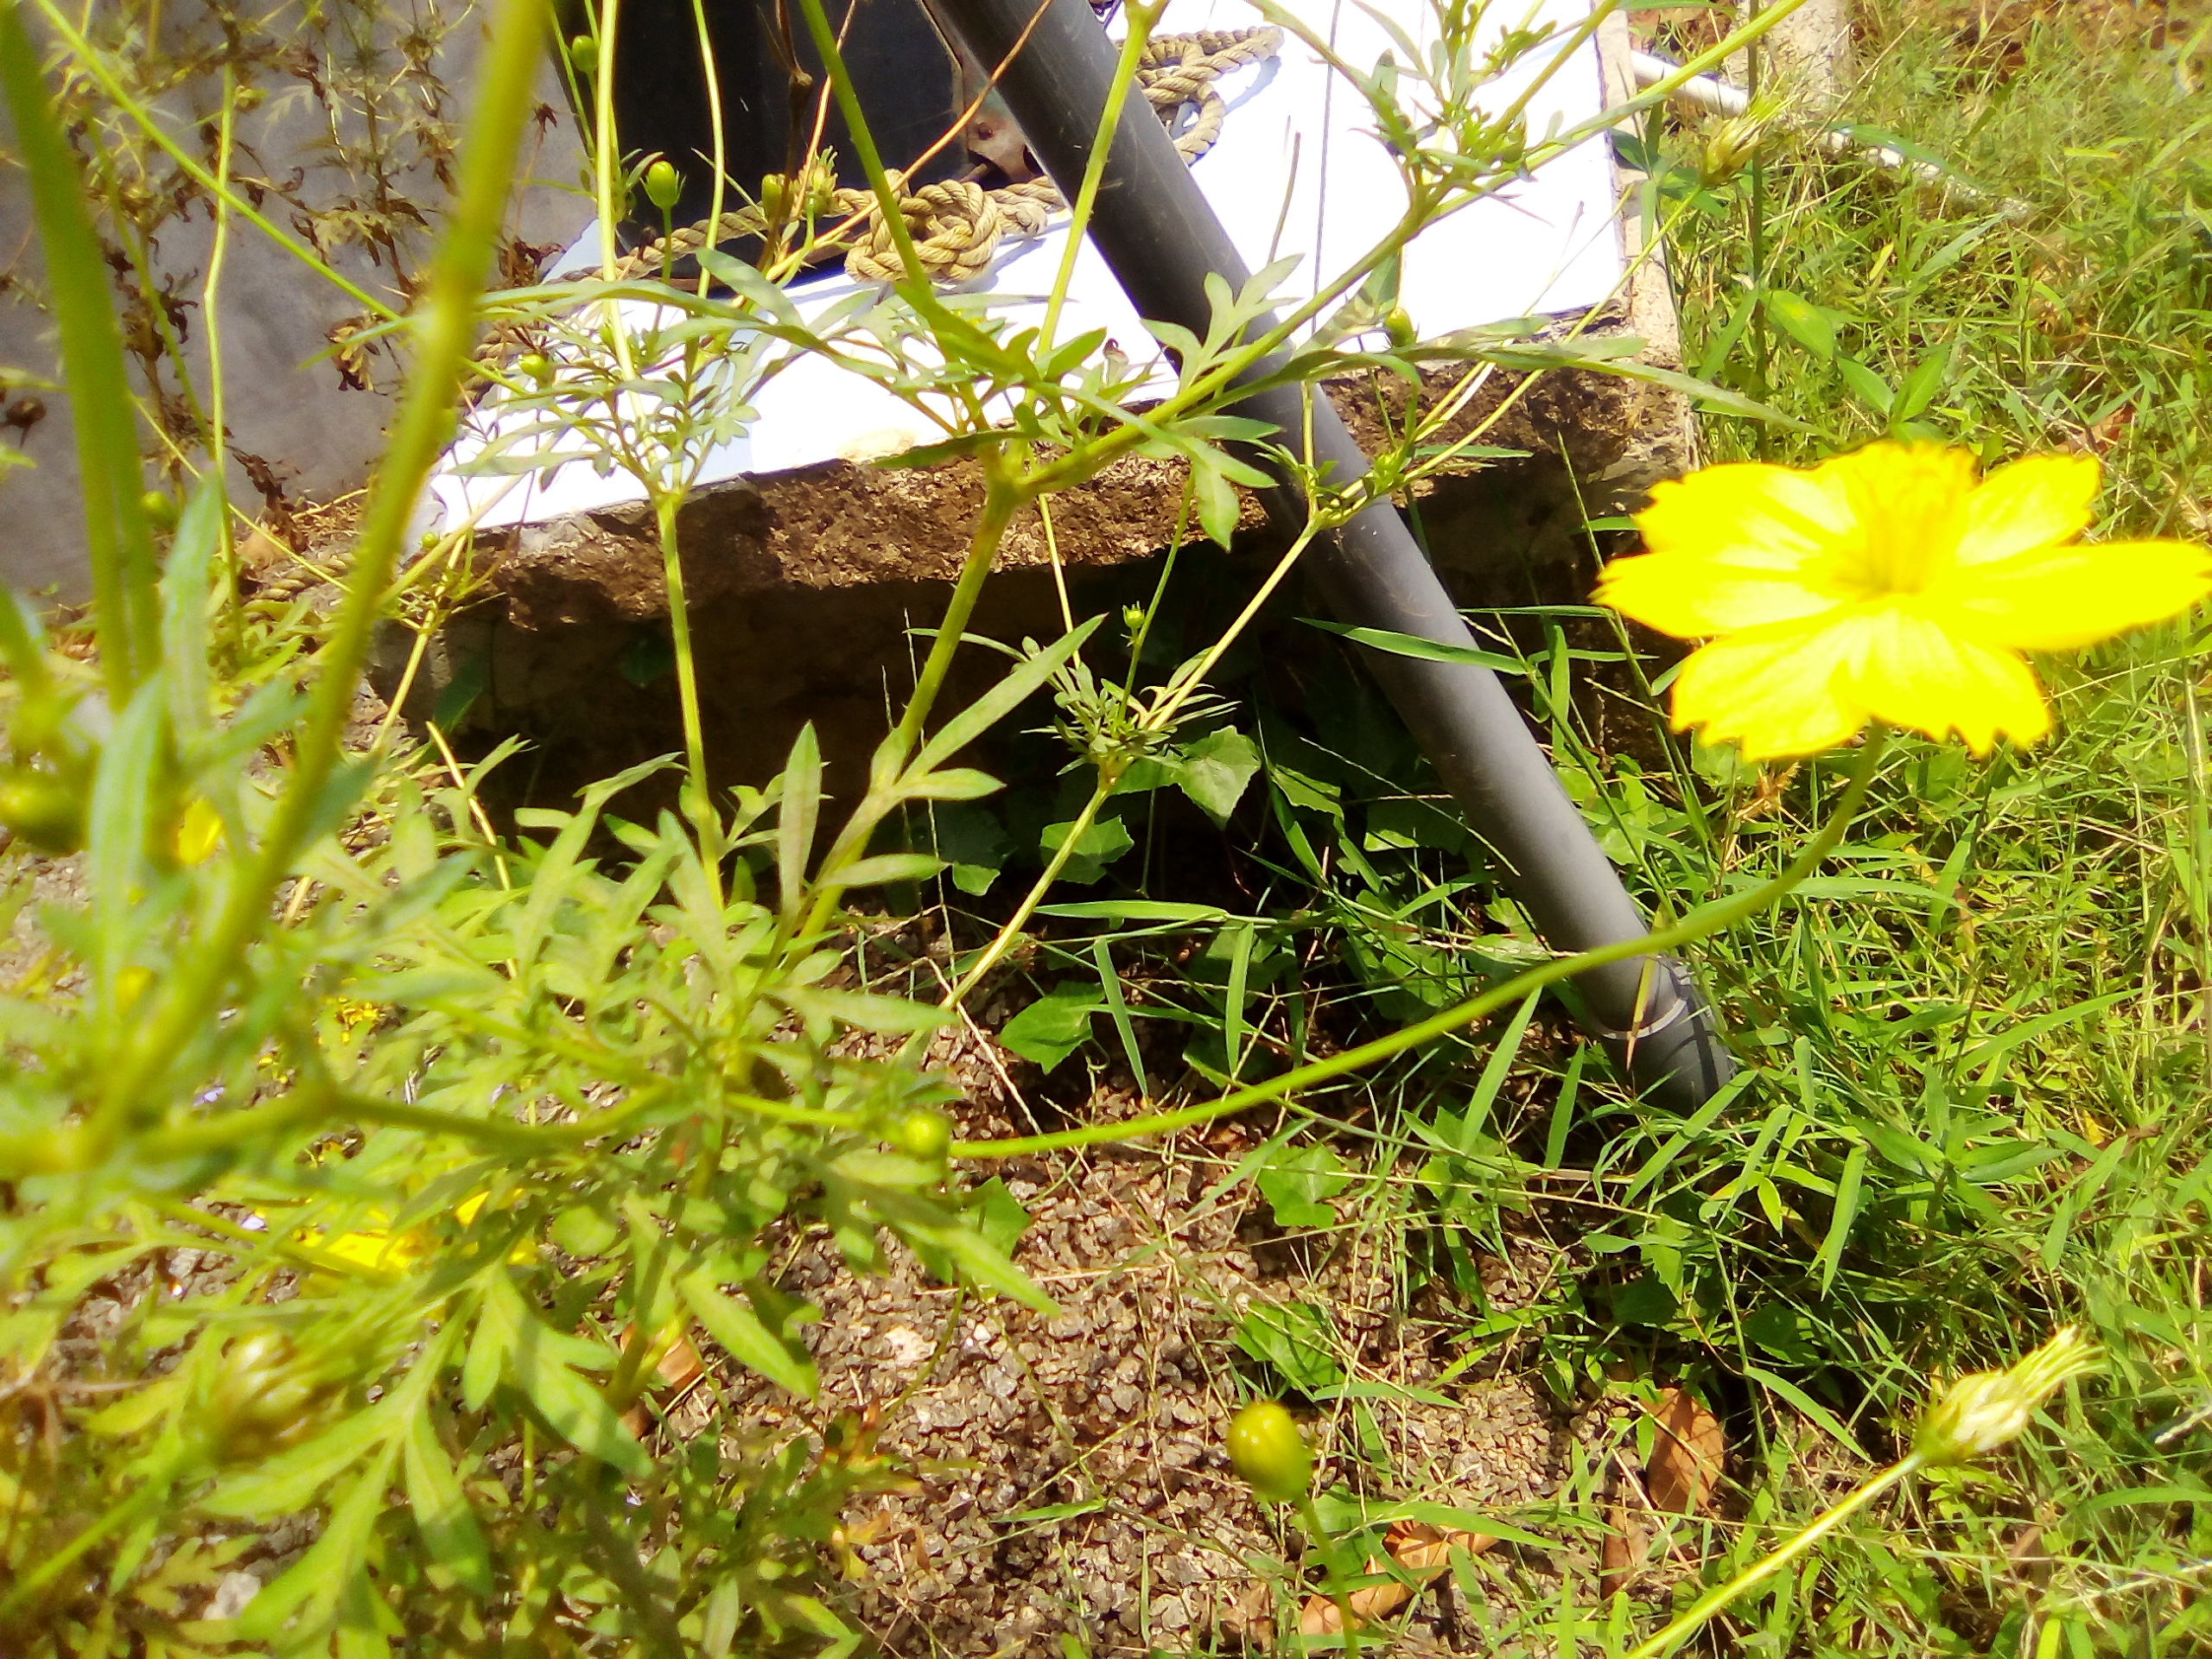kahamala: (1599, 432, 2195, 824)
